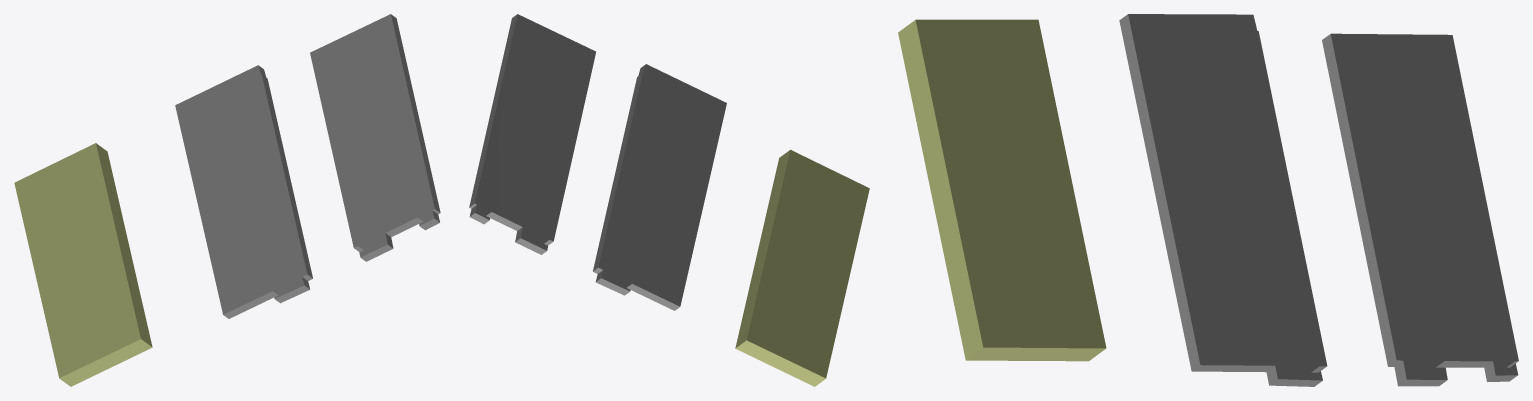
3 views of the same model, side by side, from view 1: azimuth 30°, elevation 25°; view 2: azimuth 150°, elevation 25°; view 3: azimuth 330°, elevation 25° (orthographic). The views are drawn at different scales.
Visible parts, largest first — view 1: 0_1_0_0_3_0_0; view 2: 0_1_0_0_3_0_0; view 3: 0_1_0_0_3_0_0.
Boxes of the visible parts, x1,y1,x2,y2 form: 0_1_0_0_3_0_0: (14, 14, 440, 386); 0_1_0_0_3_0_0: (469, 14, 869, 386); 0_1_0_0_3_0_0: (898, 14, 1518, 386).
Bounding box in the file's own units: 122 × 83.32 × 8.2.
